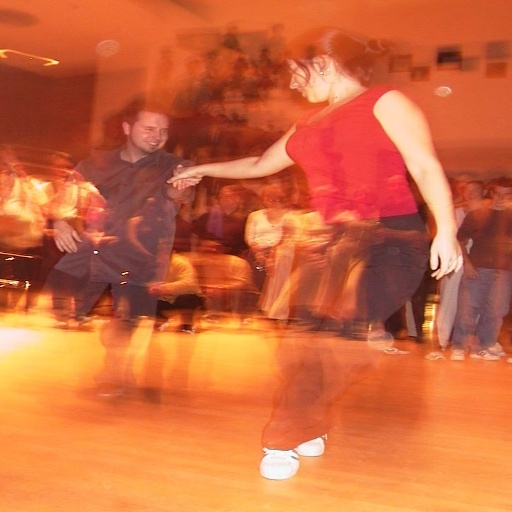hand: (424, 228, 469, 280), (49, 222, 83, 256), (163, 163, 203, 190), (171, 162, 201, 187)
